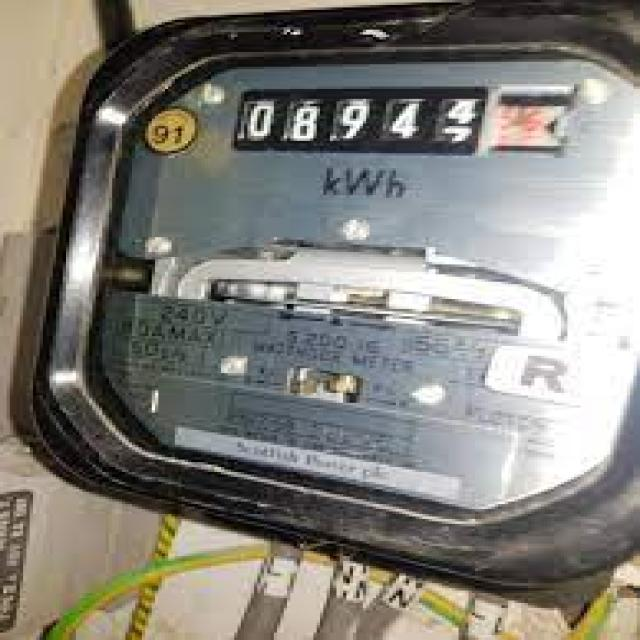0: (237, 92, 279, 146)
4: (386, 98, 428, 146)
8: (287, 96, 322, 146)
9: (339, 96, 373, 146)
analog meter: (207, 80, 616, 160)
